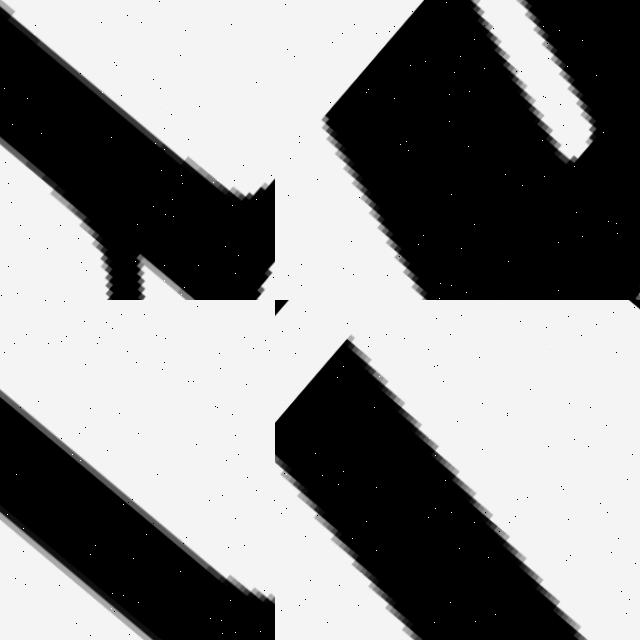L: (275, 308, 640, 640)
N: (275, 0, 640, 300), (0, 300, 275, 640)
R: (0, 0, 275, 300)
